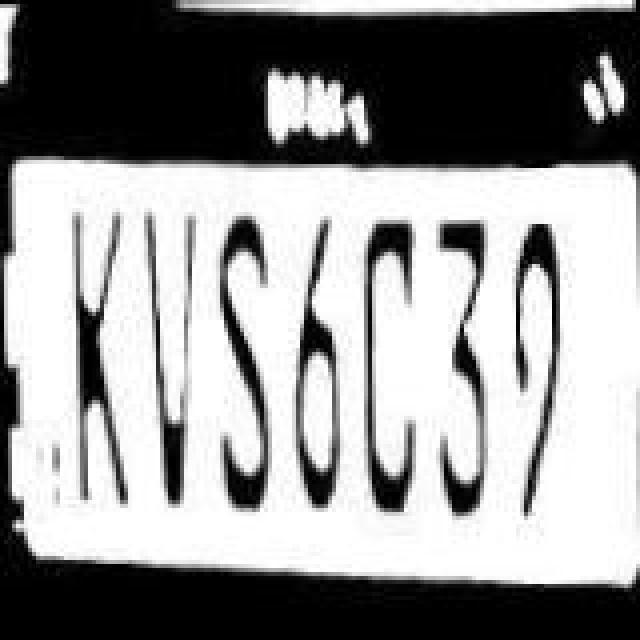3: (426, 224, 494, 520)
6: (278, 212, 354, 520)
9: (496, 214, 568, 522)
C: (358, 222, 426, 522)
K: (60, 202, 140, 510)
S: (202, 212, 278, 516)
V: (140, 204, 204, 500)
